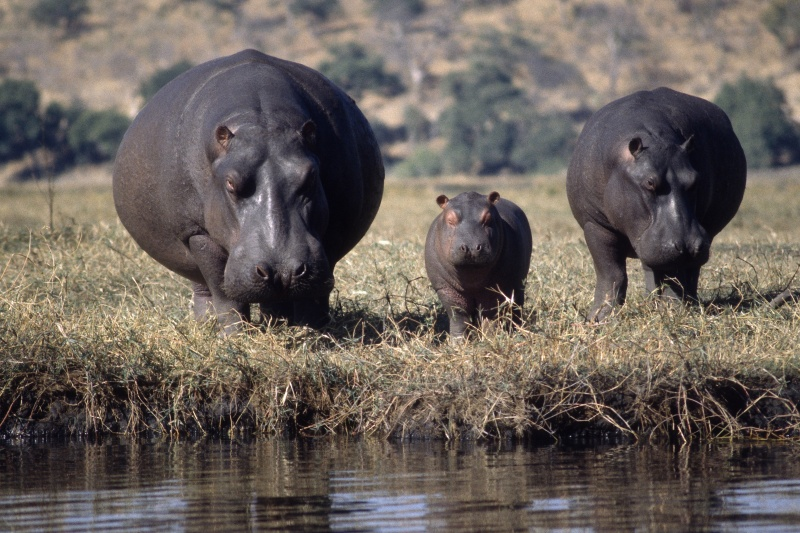hipopotamo: (108, 48, 389, 339), (561, 86, 749, 303), (411, 180, 535, 334)
